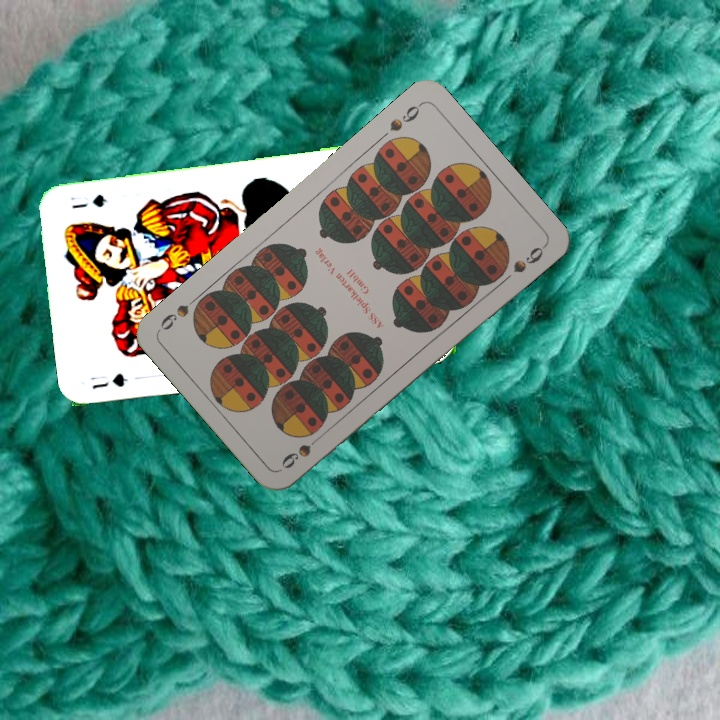GU: (88, 369, 130, 392)
S9: (277, 429, 327, 471), (385, 99, 425, 134)
